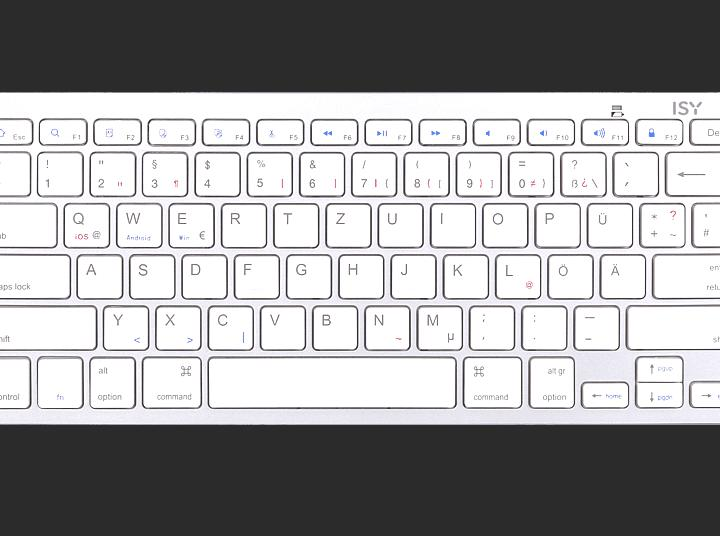0: (505, 149, 553, 196)
1: (34, 149, 82, 195)
2: (86, 149, 135, 195)
3: (139, 149, 187, 196)
4: (192, 149, 239, 195)
5: (244, 149, 291, 195)
6: (296, 149, 344, 196)
7: (349, 149, 396, 196)
8: (401, 149, 448, 196)
9: (453, 149, 500, 196)
a: (74, 251, 121, 297)
accent: (610, 149, 657, 194)
ae: (597, 251, 645, 298)
alt-left: (86, 353, 136, 408)
altgr-right: (526, 353, 575, 408)
b: (309, 302, 357, 349)
c: (205, 302, 253, 349)
caret: (1, 148, 29, 195)
comma: (466, 302, 513, 349)
d: (178, 251, 226, 298)
del: (663, 149, 720, 195)
e: (165, 200, 214, 247)
enter: (650, 250, 720, 297)
f: (231, 251, 278, 298)
g: (283, 251, 330, 298)
h: (335, 251, 382, 298)
hash: (690, 200, 720, 246)
i: (428, 200, 474, 246)
j: (388, 251, 434, 298)
k: (440, 251, 488, 298)
keyboard: (1, 87, 720, 433)
l: (493, 251, 540, 299)
m: (413, 302, 462, 349)
minus: (570, 302, 618, 349)
n: (361, 302, 409, 349)
o: (479, 200, 526, 246)
oe: (545, 251, 592, 298)
p: (532, 200, 579, 246)
plus: (637, 200, 685, 246)
point: (518, 302, 566, 348)
q: (60, 200, 109, 247)
r: (218, 200, 266, 247)
s: (126, 252, 174, 298)
shift-left: (1, 301, 98, 349)
shift-lock: (1, 251, 70, 299)
shift-right: (623, 301, 720, 350)
space: (206, 353, 456, 408)
ss: (557, 149, 605, 195)
strg-left: (1, 353, 30, 409)
t: (271, 200, 317, 246)
tab: (1, 199, 56, 247)
u: (375, 200, 422, 247)
ue: (584, 200, 632, 247)
v: (257, 302, 304, 349)
w: (113, 198, 161, 246)
x: (153, 302, 201, 349)
y: (100, 302, 148, 349)
z: (323, 200, 370, 246)
